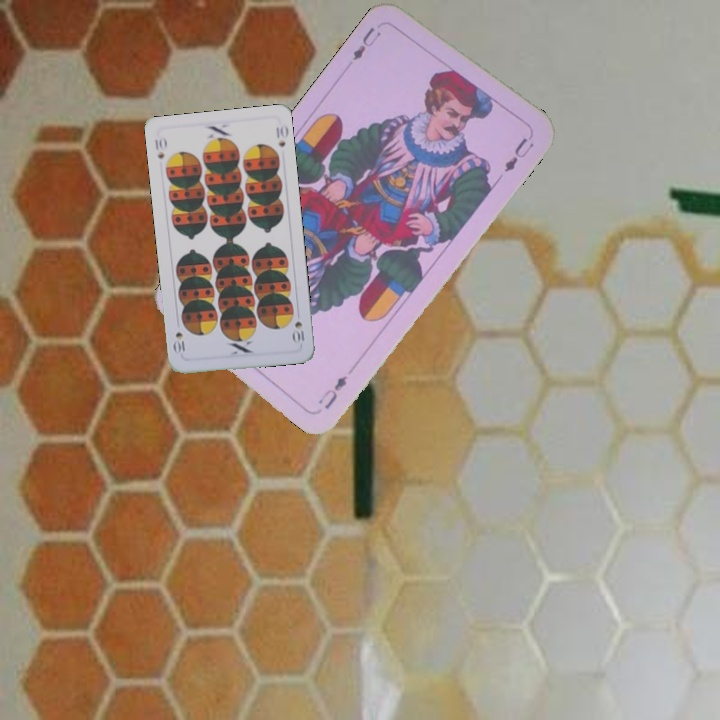EU: (314, 371, 350, 412), (349, 23, 384, 64)
S10: (289, 317, 307, 346), (151, 134, 169, 161)
